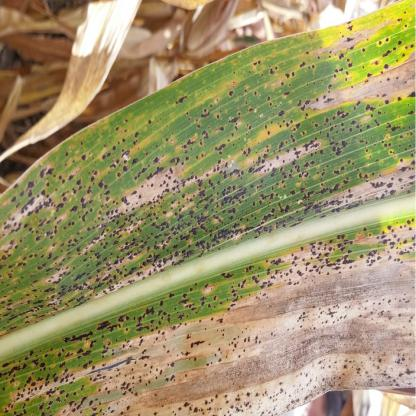corn rust leaf: (0, 1, 416, 415)
